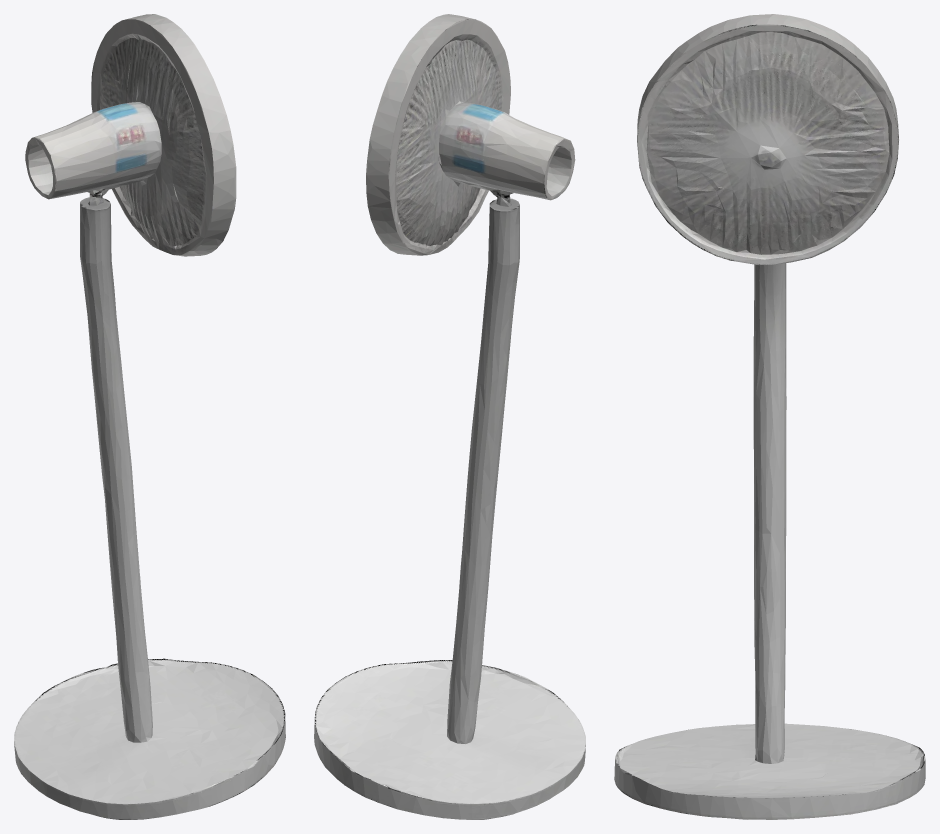
Rendered from ast_2c9b8fa14140.glb.
3 renders of one model, left to right at view 1: azimuth 30°, elevation 25°; view 2: azimuth 150°, elevation 25°; view 3: azimuth 270°, elevation 25°, orthographic. The views are drawn at different scales.
Visible parts, largest first — view 1: geometry_0; view 2: geometry_0; view 3: geometry_0.
Boxes of the visible parts, x1,y1,x2,y2 form: geometry_0: (14, 14, 285, 819); geometry_0: (314, 14, 585, 819); geometry_0: (614, 14, 925, 819).
Bounding box in the file's own units: 0.3226 × 0.9972 × 0.3586.
Materials: 1 (1 with a texture image).
